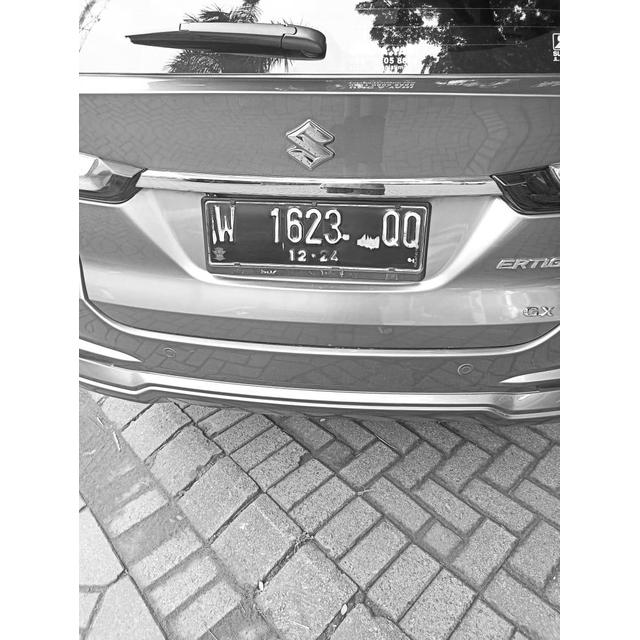license: (212, 204, 423, 265)
